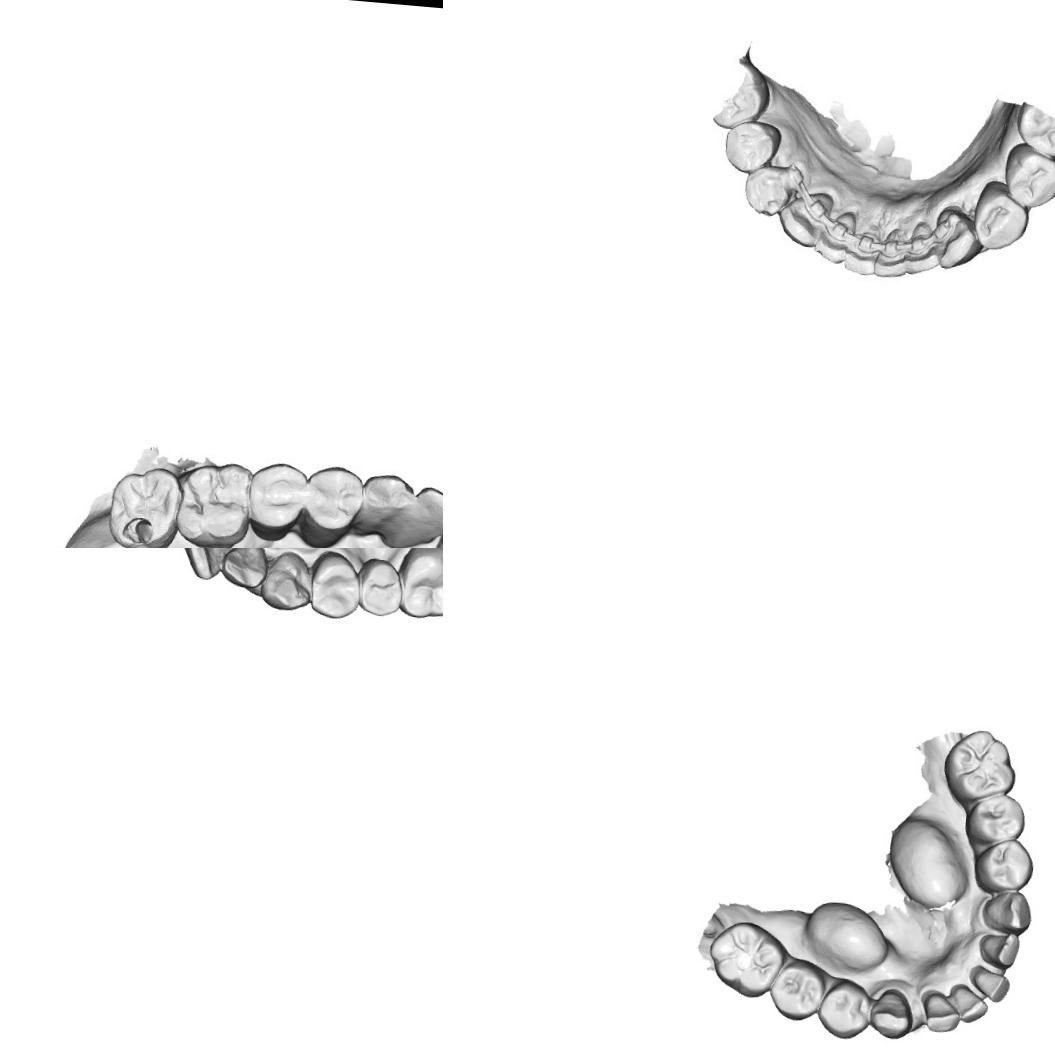canine: (351, 466, 412, 546), (257, 548, 315, 613), (742, 161, 802, 222), (866, 985, 916, 1042), (978, 887, 1036, 936), (932, 210, 979, 265)
incisor: (395, 480, 443, 548), (778, 192, 830, 246), (219, 548, 271, 590), (902, 224, 942, 278), (974, 928, 1022, 972), (176, 548, 238, 582), (846, 226, 888, 276), (816, 207, 856, 259), (920, 988, 962, 1034), (947, 983, 991, 1026), (876, 225, 912, 277), (970, 967, 1012, 1004)
molar: (98, 460, 185, 548), (172, 456, 254, 548), (702, 916, 790, 1001), (939, 725, 1020, 806), (395, 548, 443, 623)
premolar: (297, 462, 363, 548), (242, 459, 308, 542), (765, 954, 828, 1024), (305, 548, 363, 621), (970, 834, 1036, 896), (962, 790, 1029, 849), (816, 975, 873, 1042), (352, 555, 406, 620), (974, 184, 1028, 244), (722, 120, 779, 176), (1004, 149, 1055, 207)
